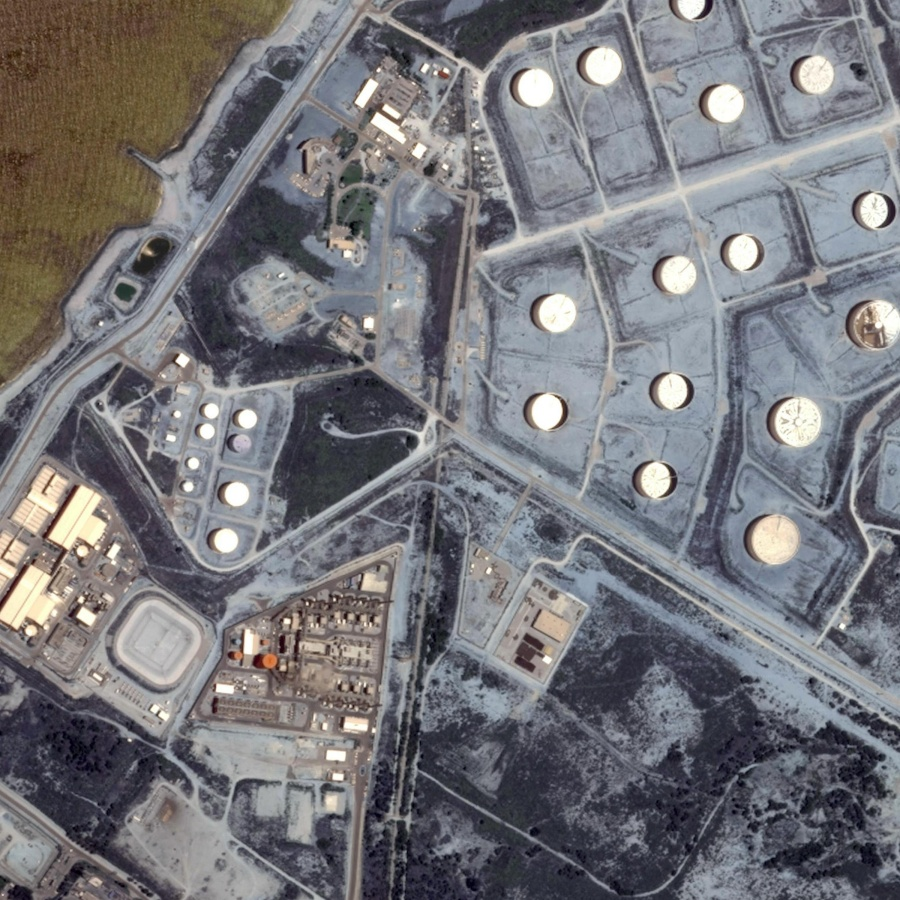PowerPlant: (98, 352, 330, 566)
